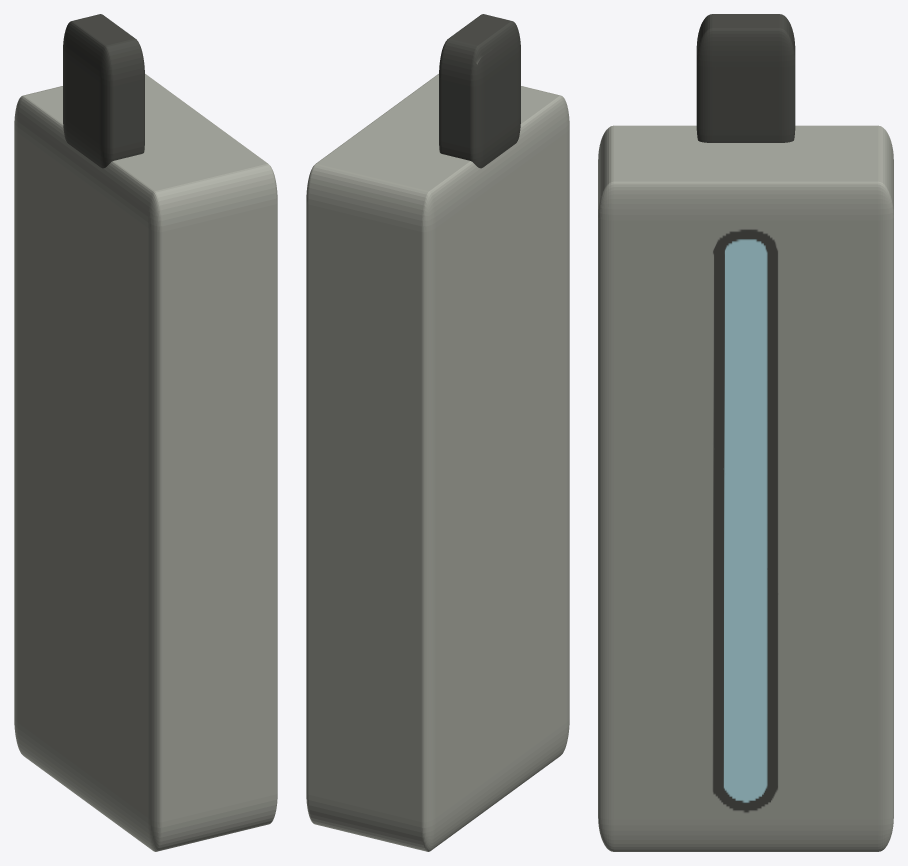
The model's file is Corridor-lamp.glb.
3 views of the same model, side by side, from view 1: azimuth 30°, elevation 25°; view 2: azimuth 150°, elevation 25°; view 3: azimuth 270°, elevation 25° (orthographic).
Visible parts, largest first — view 1: Cube; view 2: Cube; view 3: Cube.
Boxes of the visible parts, box(x1,y1,x2,y2) form: Cube: box(14, 14, 277, 851); Cube: box(306, 14, 569, 851); Cube: box(598, 14, 893, 851).
Bounding box in the file's own units: 0.6 × 3.5 × 1.2.
Materials: 1 (1 with a texture image).
